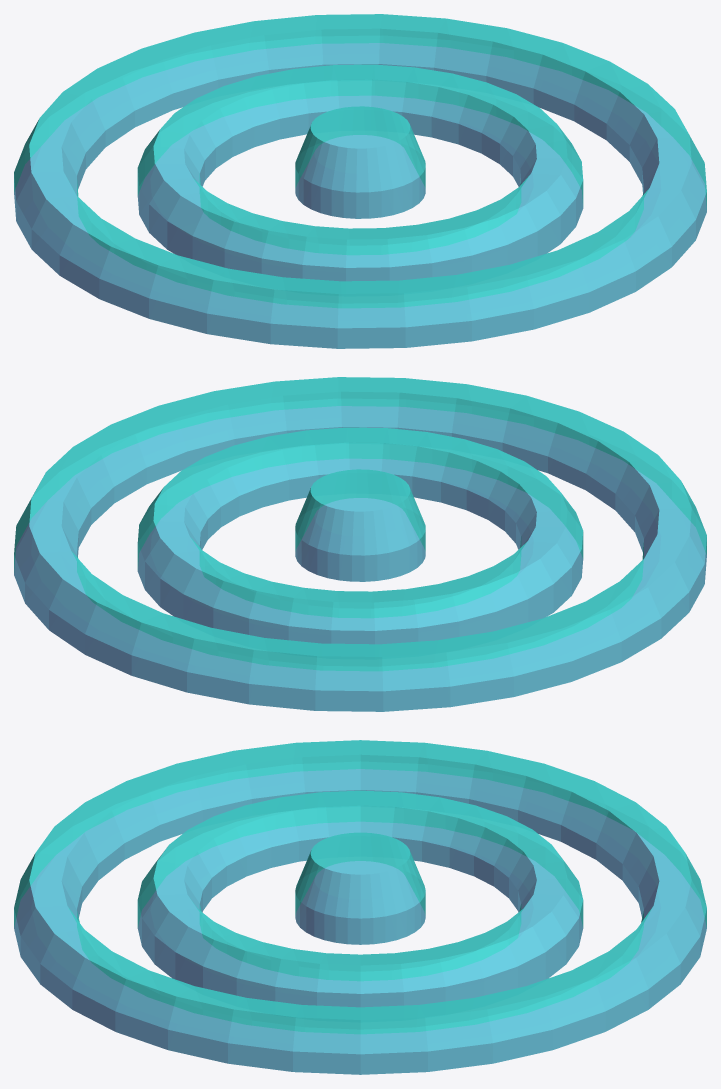
Rendered from Action_character_move 1.fbx.
3 views of the same model, one above another, from view 1: azimuth 30°, elevation 25°; view 2: azimuth 150°, elevation 25°; view 3: azimuth 270°, elevation 25° (orthographic).
Visible parts, largest first — view 1: Circle; view 2: Circle; view 3: Circle.
Part boxes in pixels (x1,y1,x2,y2): Circle: (14,14,706,348); Circle: (14,377,706,711); Circle: (14,740,706,1074).
Size of the model in its own units: 215 by 25.65 by 215.
